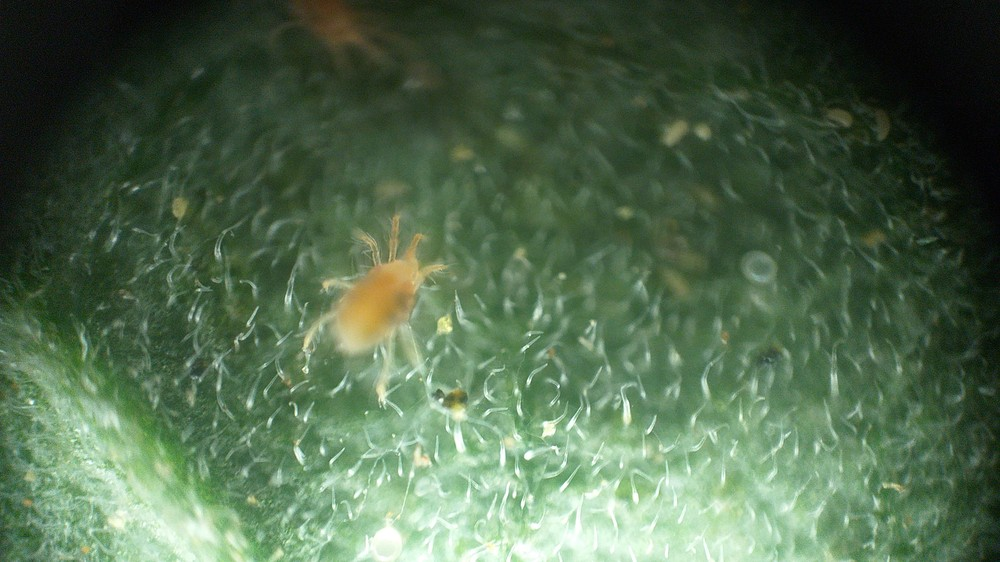Aracnido Rojo: (293, 207, 491, 403)
